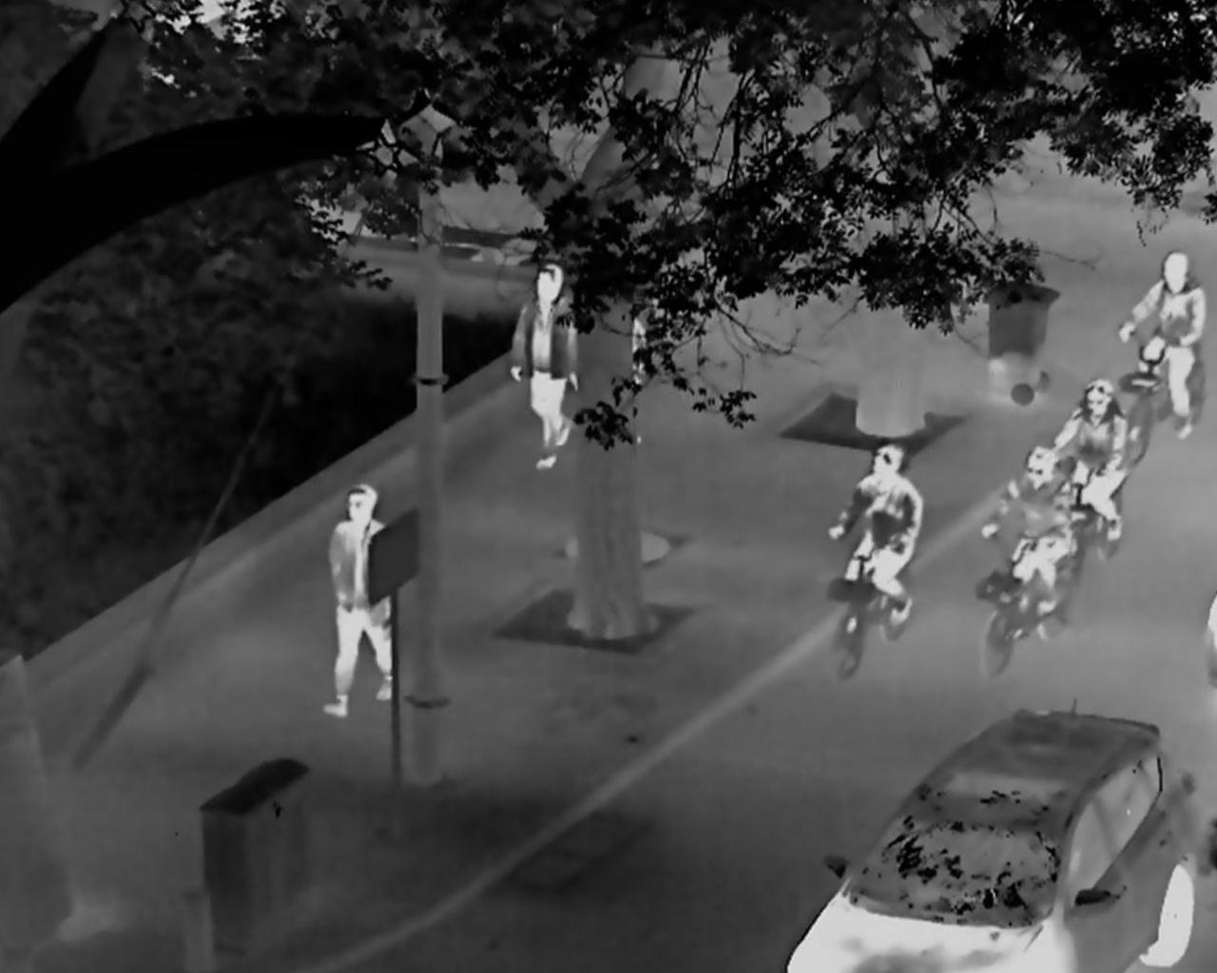person: (323, 479, 401, 716), (827, 443, 924, 628), (1115, 249, 1206, 440), (979, 446, 1079, 618), (510, 264, 582, 469), (1053, 378, 1130, 541)
